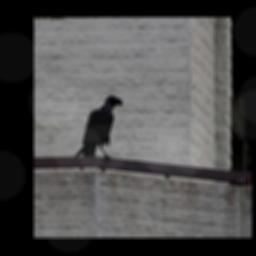Crow: (73, 93, 123, 171)
